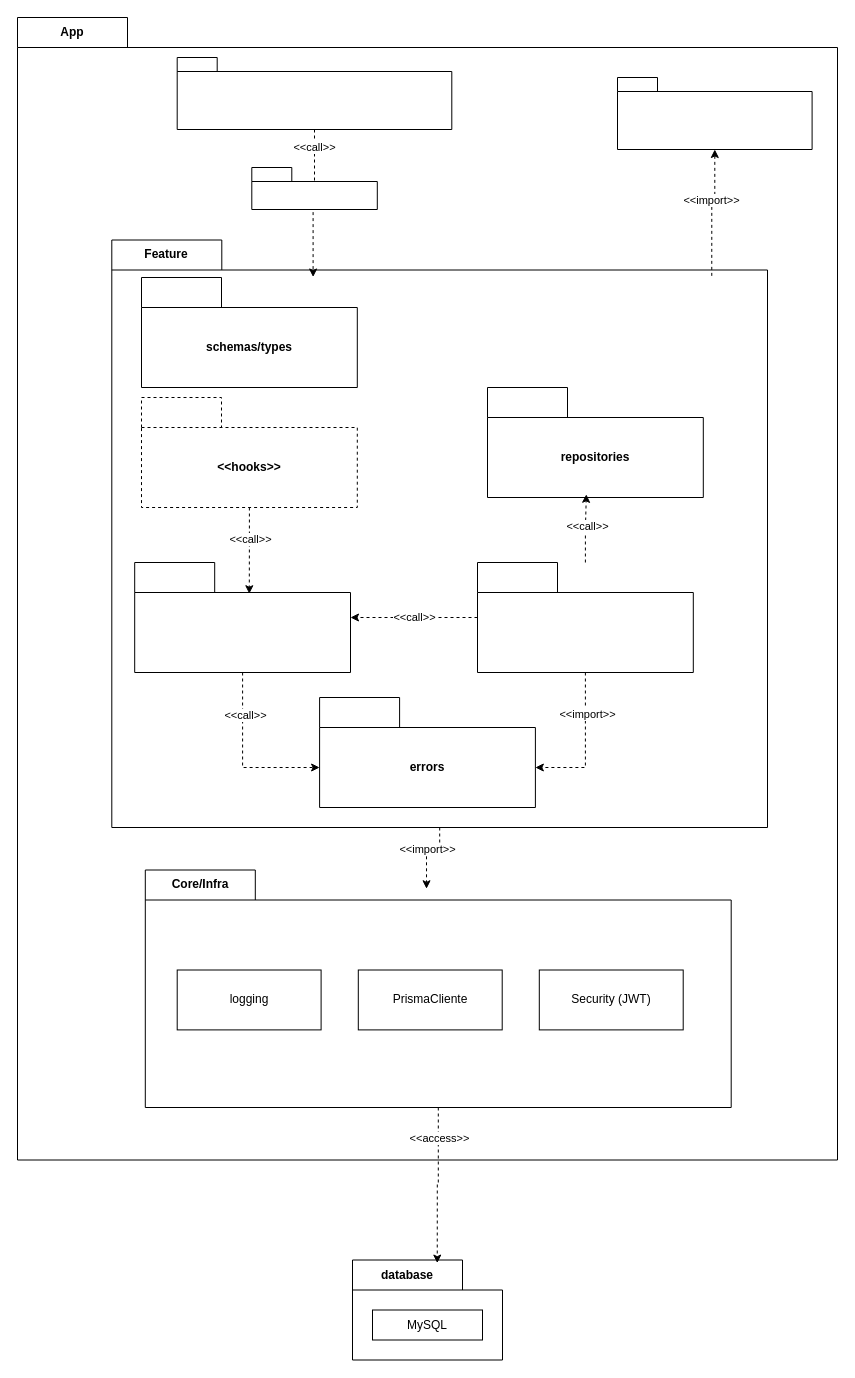
Image size: 855x1378. Some labels were removed from this diagram. Here are the shapes that lost their labels. From the top down, the centre of each, then its label:
the point at 314,93: App Router
the point at 714,113: Components/UI
the point at 314,188: proxy
the point at 242,617: server actions
the point at 584,617: services
